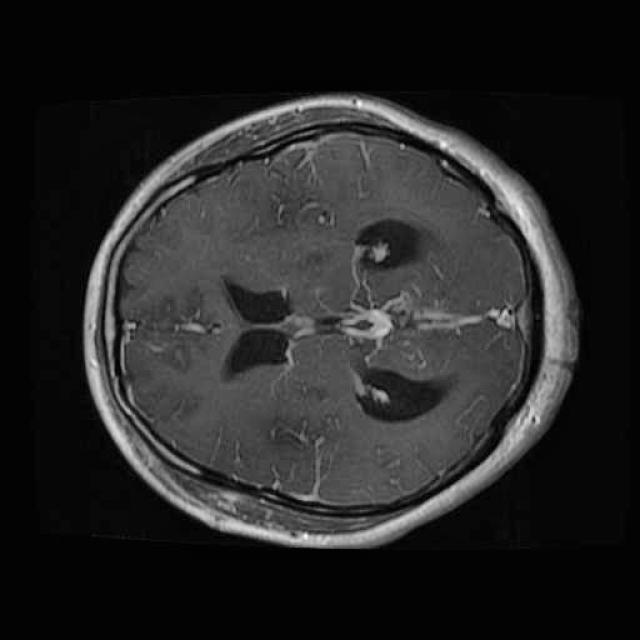Non-Tumor: (342, 345, 475, 441)
